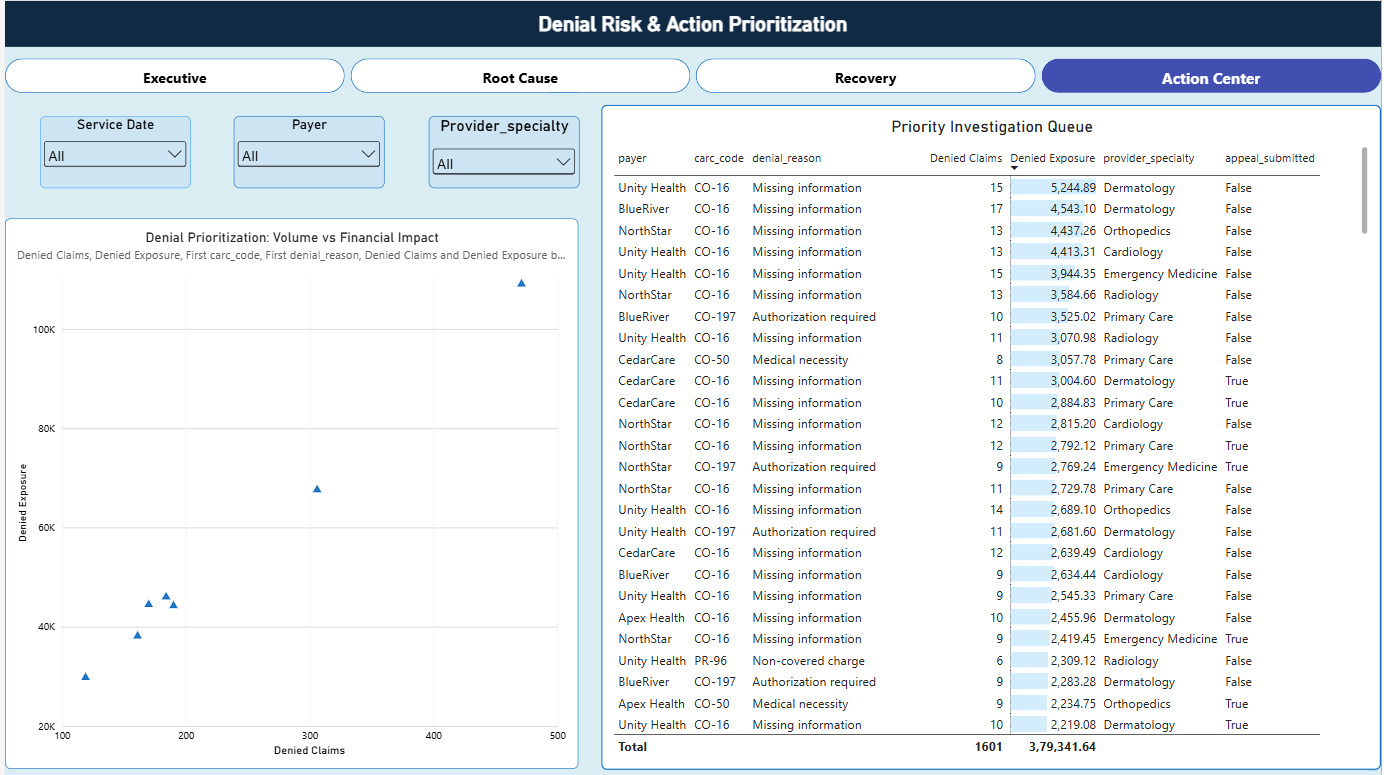

The page's visual inventory and layout, read from the dashboard file:
{"tool":"powerbi","page":{"name":"Action Center","canvas":[1920,1080],"ordinal":3},"visuals":[{"type":"textbox","title":"Denial Risk & Action Prioritization","box":[0,0,1920,64],"z":0},{"type":"scatterChart","title":"Denial Prioritization: Volume vs Financial Impact","fields":{"Category":["claims_processed.denial_reason"],"X":["claims_processed.Denied Claims"],"Y":["claims_processed.Denied Exposure"]},"box":[0,304,800,768],"z":1000},{"type":"tableEx","title":"Priority Investigation Queue","fields":{"Values":["claims_processed.payer","claims_processed.carc_code","claims_processed.denial_reason","claims_processed.Denied Claims","claims_processed.Denied Exposure","claims_processed.provider_specialty","claims_processed.appeal_submitted"]},"box":[832,144,1088,928],"z":2000},{"type":"pageNavigator","box":[0,80,1920,48],"z":3000},{"type":"slicer","title":"Service Date","fields":{"Values":["claims_processed.Month Label"]},"box":[48,160,210,101],"z":4000},{"type":"slicer","title":"Payer","fields":{"Values":["claims_processed.payer"]},"box":[320,160,210,101],"z":5000},{"type":"slicer","title":"Provider_specialty","fields":{"Values":["claims_processed.provider_specialty"]},"box":[592,160,210,101],"z":6000}]}

Visuals, with their boxes in screenshot pixels (x1, y1, x2, y2), scaled from the page's 1920x1080 canvas onto the 1384x775 screenshot:
"Denial Risk & Action Prioritization" textbox: <bbox>0, 0, 1383, 46</bbox>
"Denial Prioritization: Volume vs Financial Impact" scatterChart: <bbox>0, 218, 577, 769</bbox>
"Priority Investigation Queue" tableEx: <bbox>600, 103, 1383, 769</bbox>
pageNavigator: <bbox>0, 57, 1383, 92</bbox>
"Service Date" slicer: <bbox>35, 115, 186, 187</bbox>
"Payer" slicer: <bbox>231, 115, 382, 187</bbox>
"Provider_specialty" slicer: <bbox>427, 115, 578, 187</bbox>
